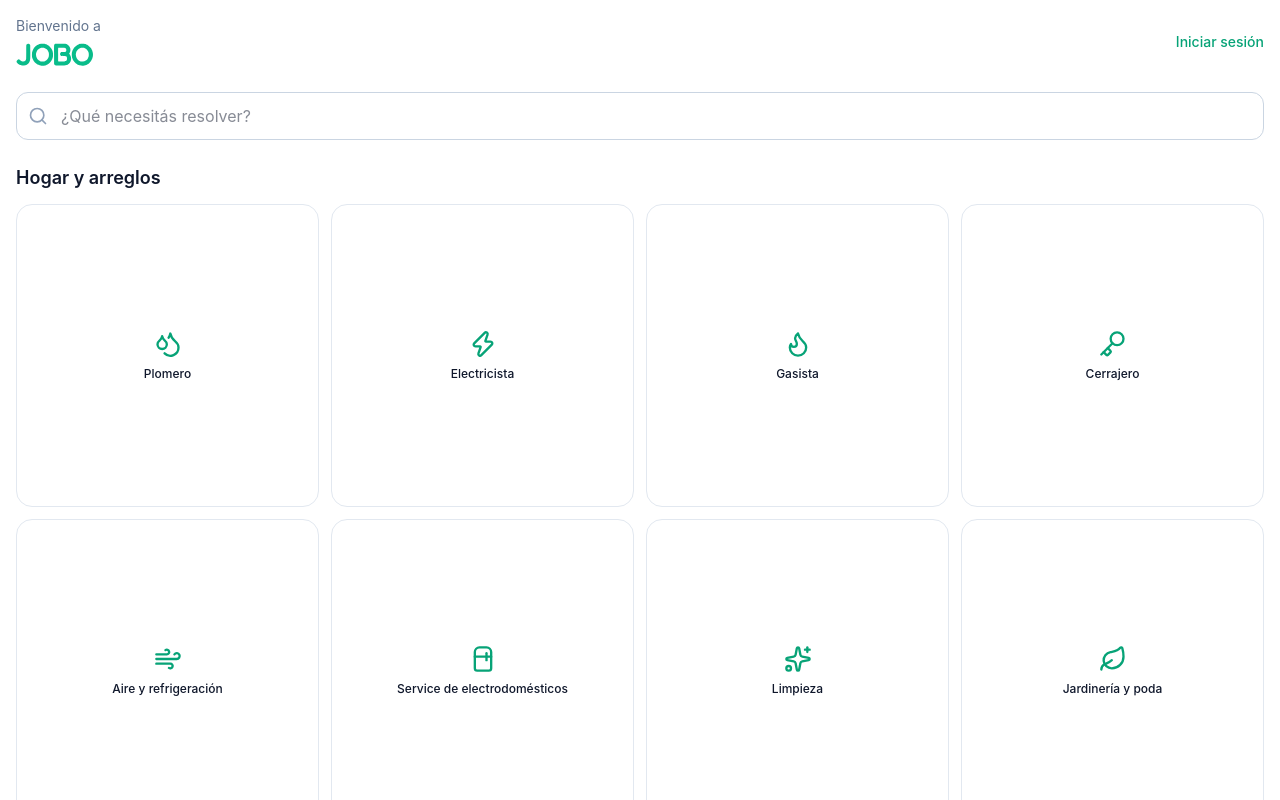
Test: buscar desde la home › los resultados reemplazan a los rubros y volver a vaciar los trae de vuelta
The width and height of the screenshot is (1280, 800).
Expected: the heading "Hogar y arreglos" is shown, [16,167,161,188]
Step 1. Type "poda" into the search field named "Buscar profesionales" → (640, 116), box [16,92,1264,140]
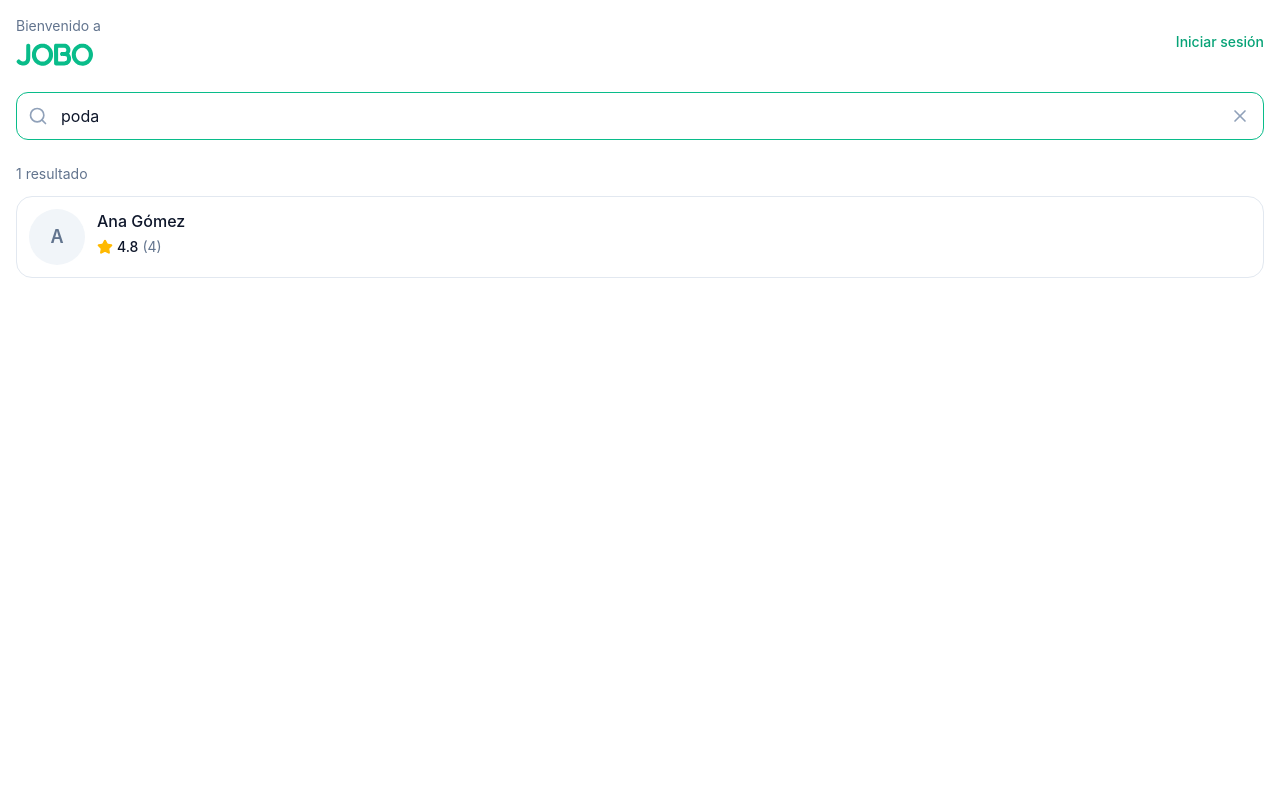
Now the text "Ana Gómez" is shown, box [97,211,185,231]
Now the heading "Hogar y arreglos" is gone
Step 2. Click the button named "Limpiar la búsqueda" → (1240, 116), box [1224,100,1256,132]
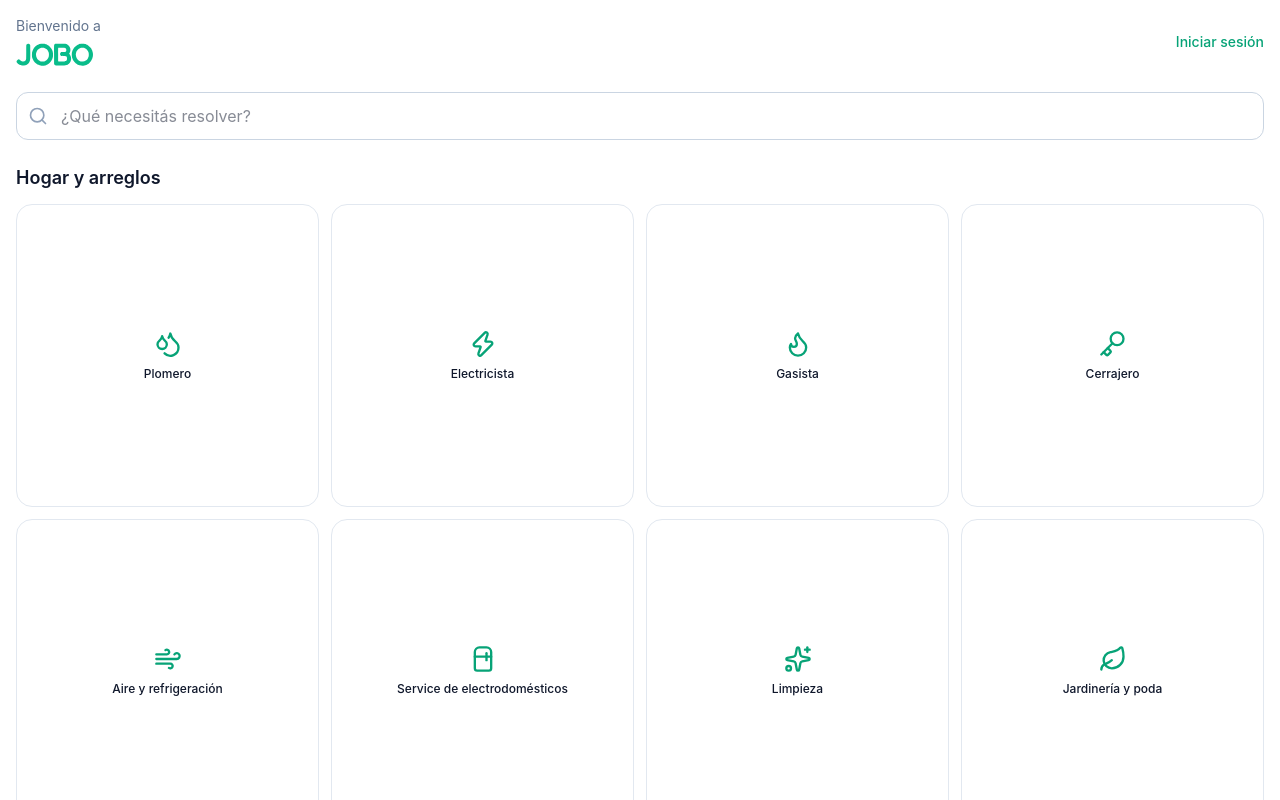
Now the heading "Hogar y arreglos" is shown, box [16,167,161,188]
